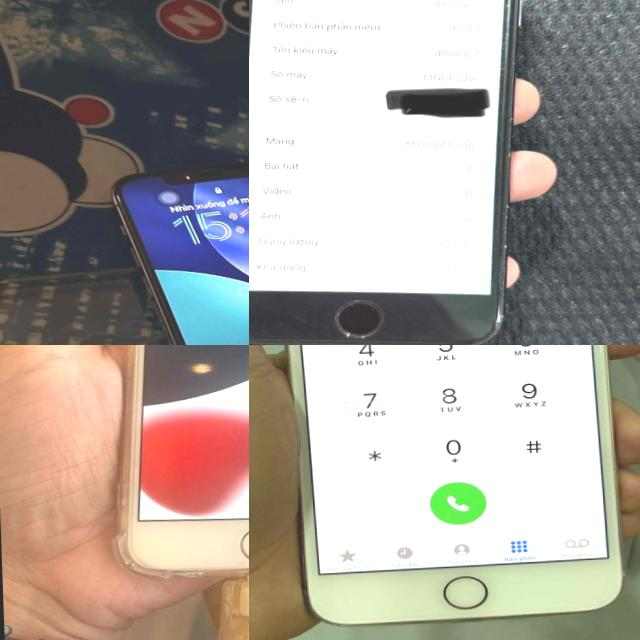gen_12_13: (93, 137, 249, 345)
gen_6: (126, 345, 249, 586)
gen_7_8: (262, 345, 638, 636), (249, 0, 540, 345)
